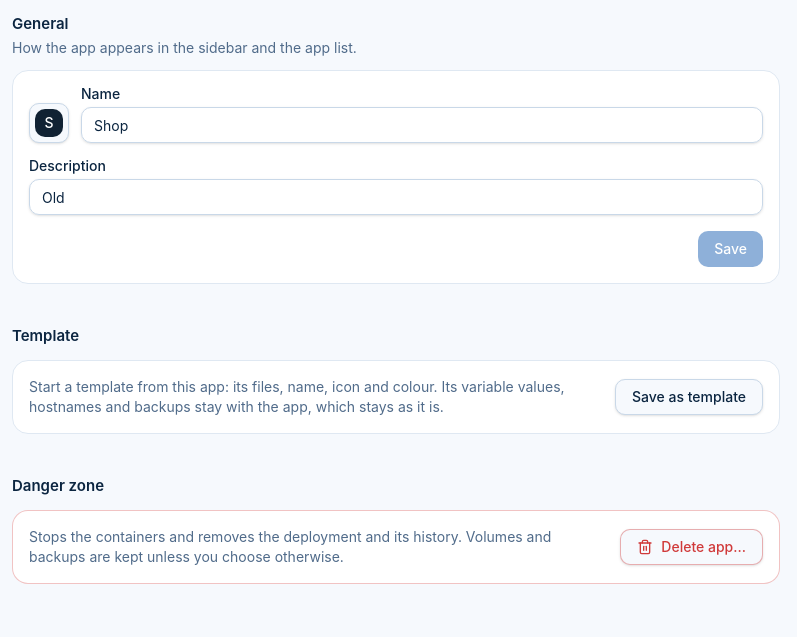
it: AppSettingsTab › is clean after a save even when the description can't be read back, so it never saves twice
This screenshot has width=797, height=637.
Type "!" into the field showing "Old" at coordinates (396, 197), box [29,179,763,215]
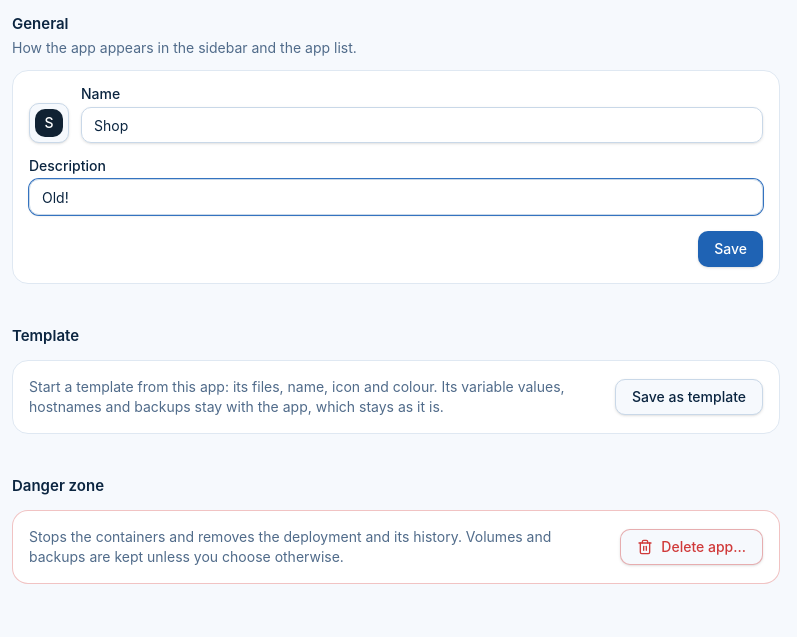
Click the button "Save" at coordinates (731, 249), box [698,231,763,267]
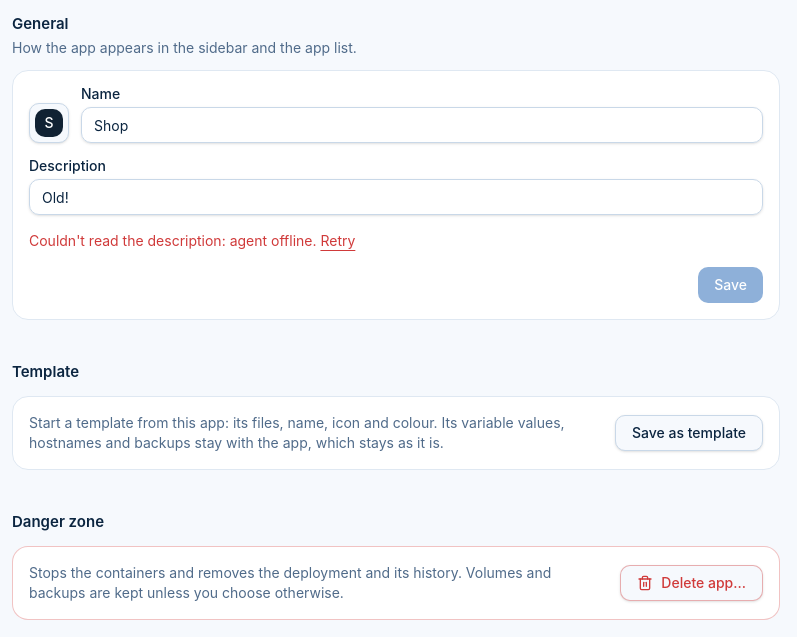
Expected: the text "Couldn't read the description: agent offline. Retry" is shown, [29,231,355,251]
Expected: the button "Save" is disabled, [698,267,763,303]
